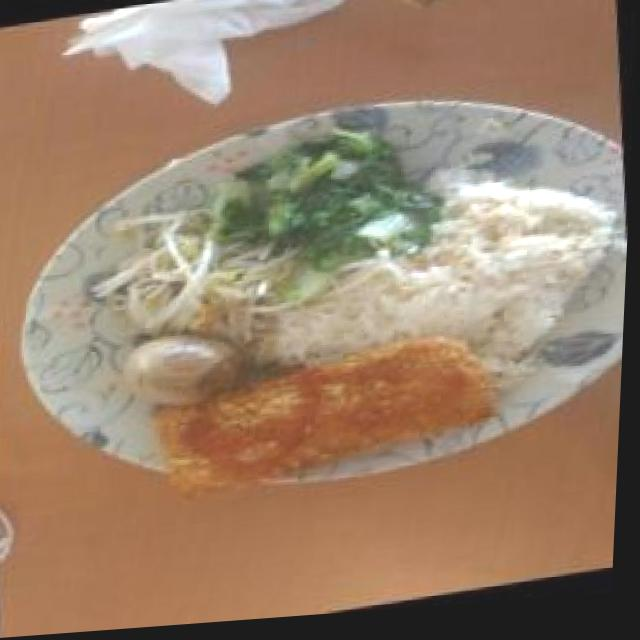mung_bean_sprouts: (126, 226, 270, 332)
rice: (407, 166, 606, 346)
triangle_hash_brown: (172, 342, 460, 492)
